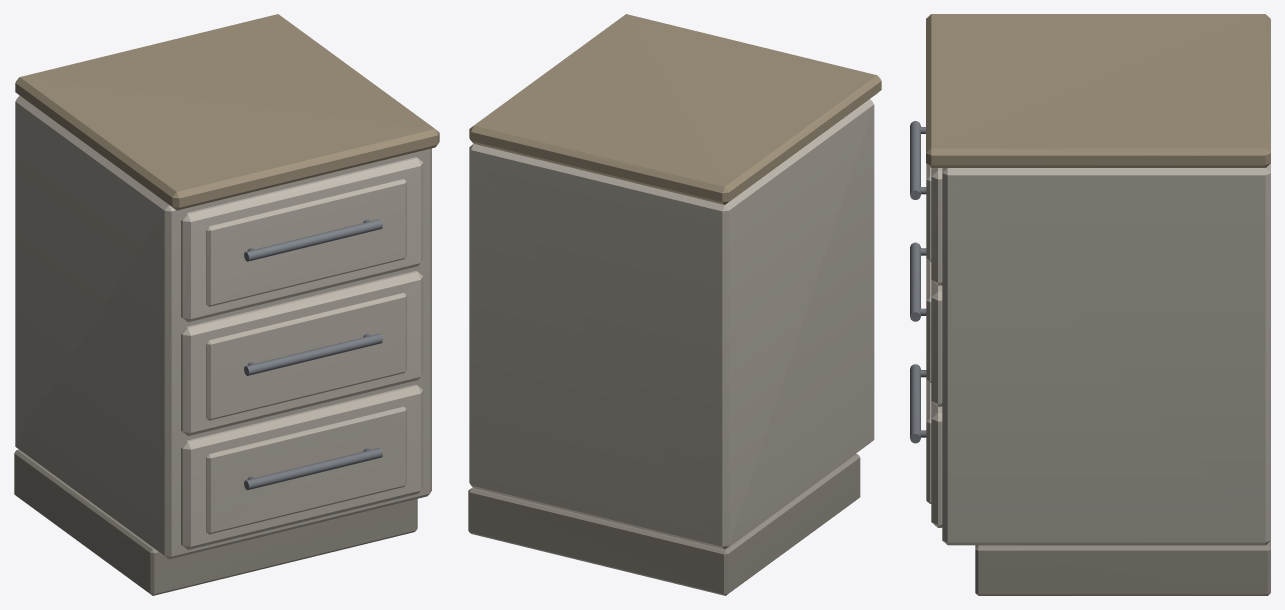
File: base_cabinet_drawers.glb
3 renders of one model, left to right at view 1: azimuth 30°, elevation 25°; view 2: azimuth 150°, elevation 25°; view 3: azimuth 270°, elevation 25°, orthographic. The views are drawn at different scales.
Visible parts, largest first — view 1: base_cabinet_drawers; view 2: base_cabinet_drawers; view 3: base_cabinet_drawers.
Part boxes in pixels (x1,y1,x2,y2): base_cabinet_drawers: (14, 14, 439, 595); base_cabinet_drawers: (468, 14, 881, 595); base_cabinet_drawers: (910, 14, 1270, 595).
Size of the model in its own units: 0.6 by 0.9 by 0.659.
